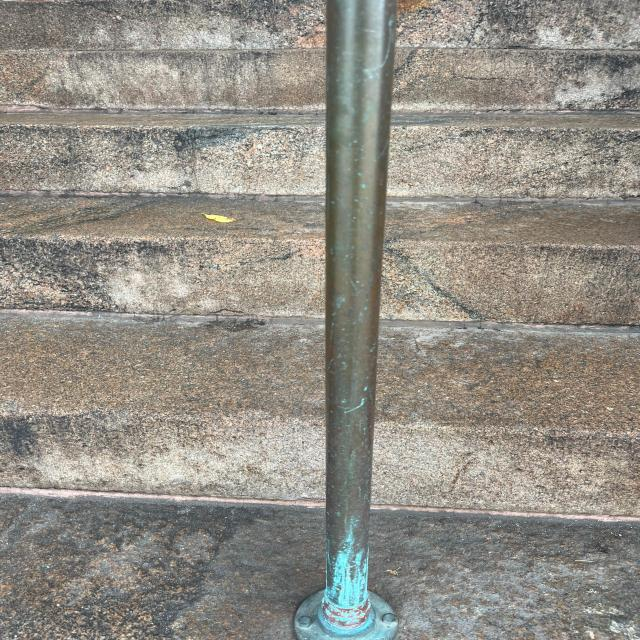Filiform Corrosion: (298, 509, 395, 640)
